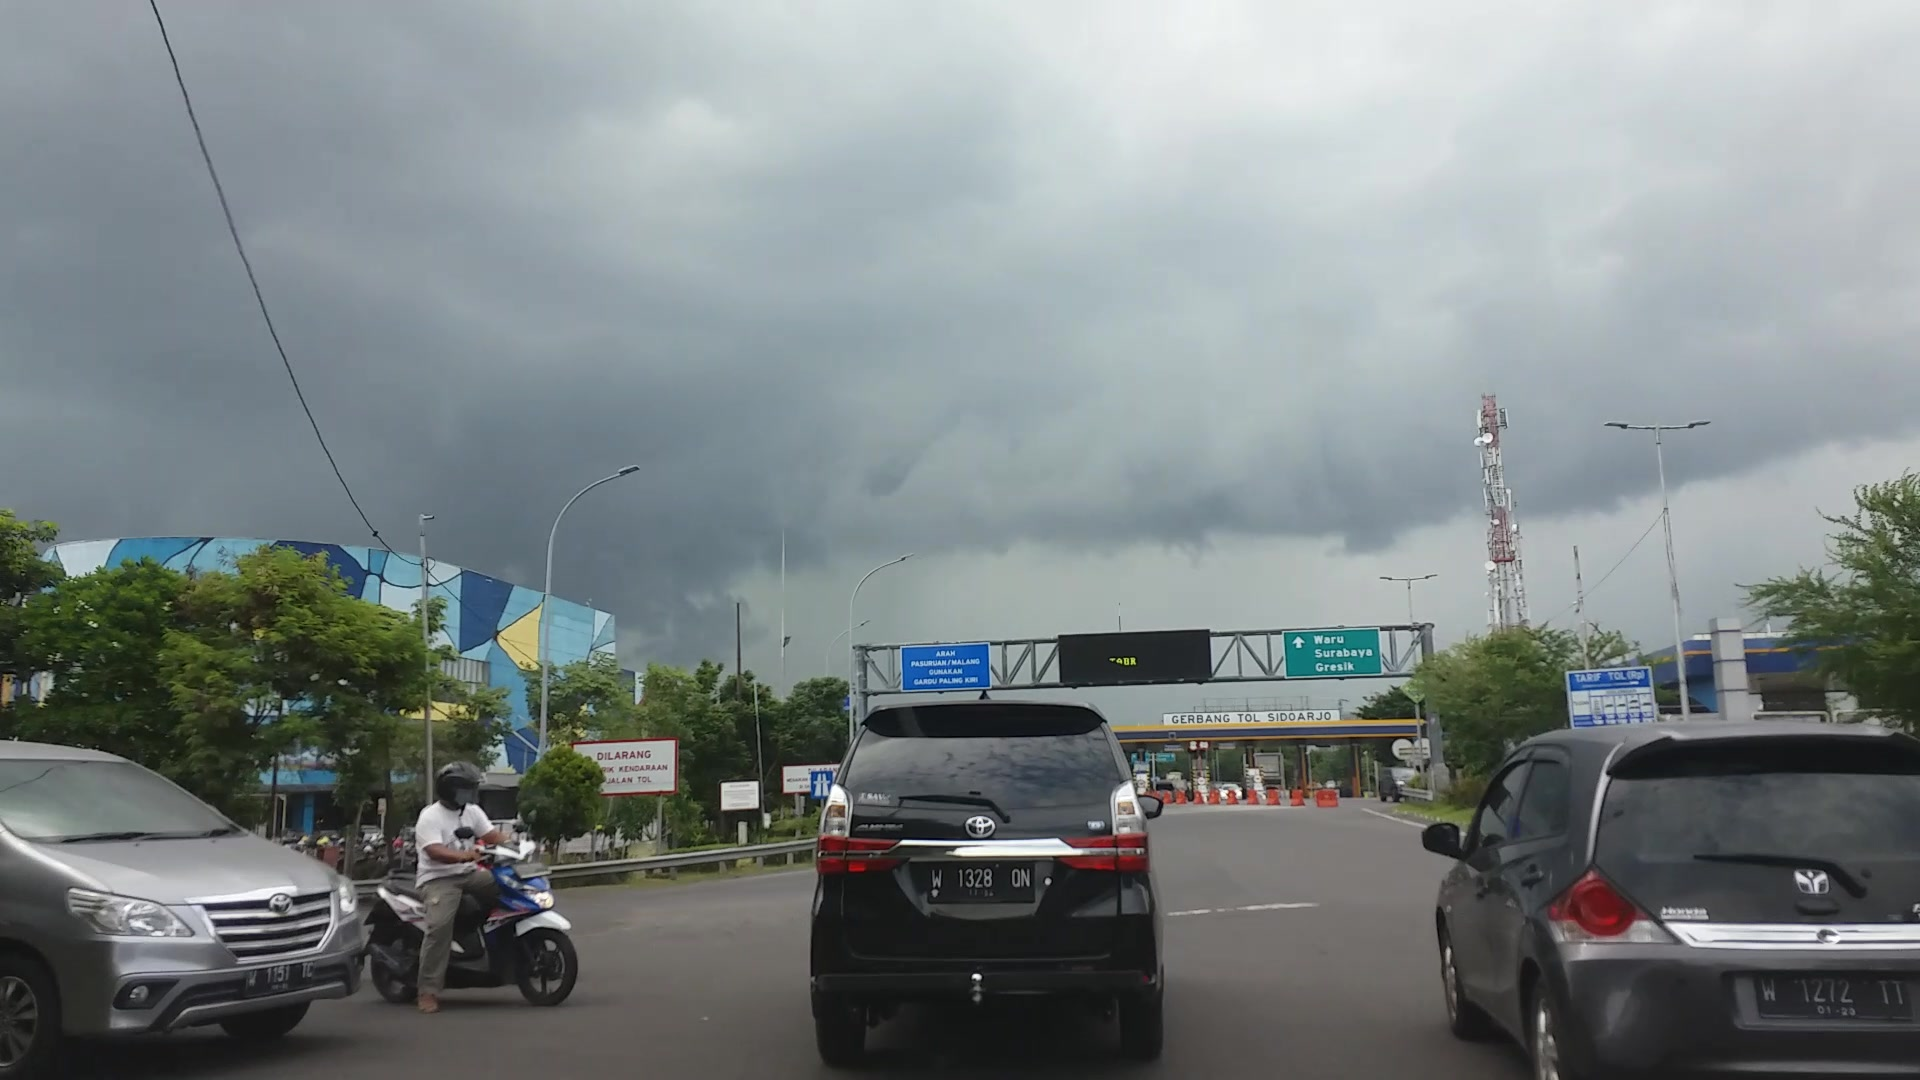plate_positive: (1754, 971, 1911, 1021), (926, 860, 1035, 902)
